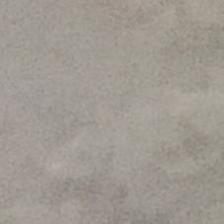Non_Crack: (17, 26, 187, 202)
